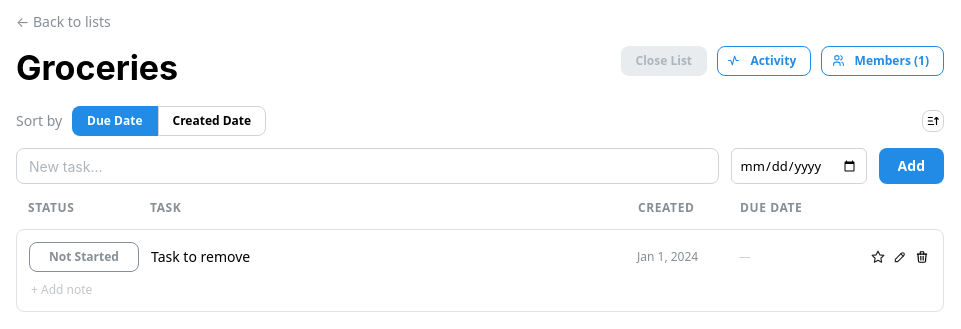
Test: ListDetailPage › removes a task from the list when delete is clicked
This screenshot has width=961, height=329.
Click the button named "delete task" at (922, 257), box [913,248,931,266]
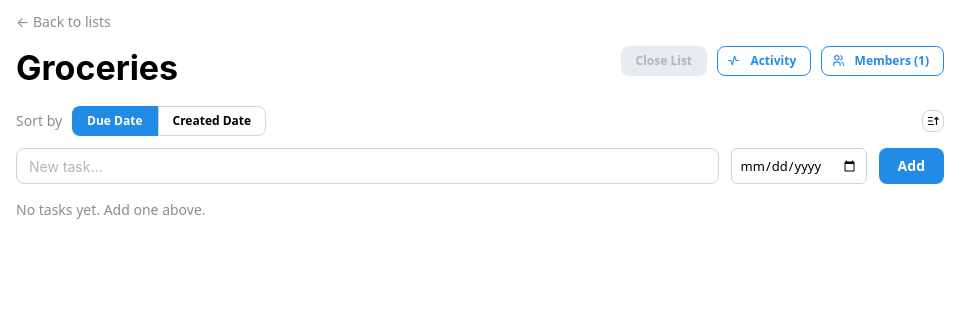
Expected: the text "Task to remove" is gone
